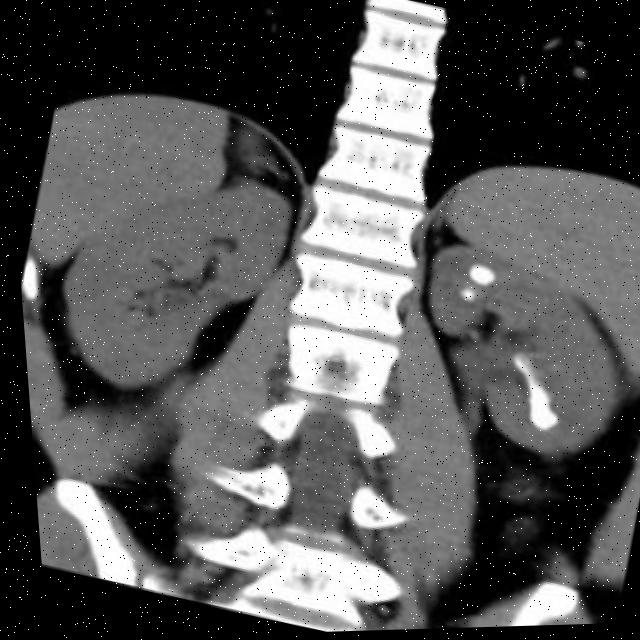Tas_Var: (511, 386, 561, 439), (455, 257, 494, 293), (496, 354, 532, 382), (445, 285, 472, 307)
